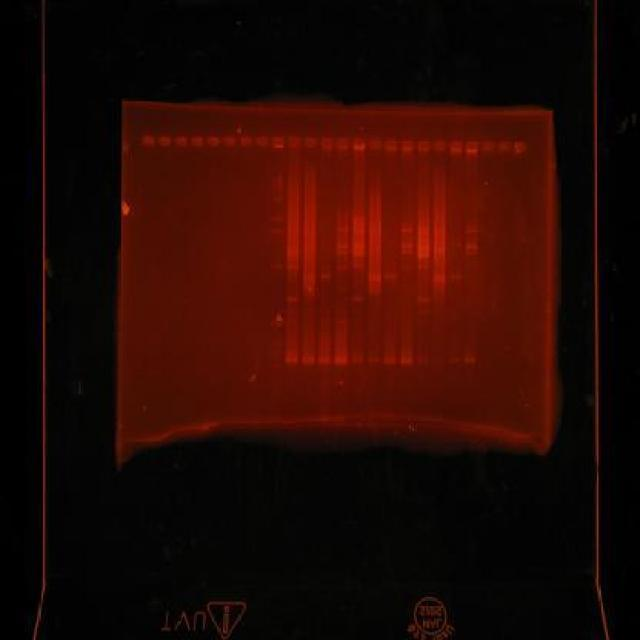B: (399, 356, 413, 366), (432, 274, 446, 284), (333, 358, 349, 366), (300, 356, 316, 364), (284, 355, 300, 363), (400, 241, 414, 250), (367, 273, 381, 282), (302, 273, 316, 282), (463, 355, 477, 363), (416, 250, 430, 258), (417, 236, 431, 244), (416, 222, 430, 230), (416, 215, 430, 223), (400, 262, 414, 270), (318, 356, 332, 364), (383, 356, 397, 364), (350, 356, 364, 364), (465, 243, 478, 251), (448, 356, 461, 364), (352, 215, 366, 222), (434, 245, 446, 253), (368, 356, 380, 364), (351, 244, 366, 250), (416, 297, 430, 303), (417, 244, 431, 250), (417, 230, 431, 236), (400, 227, 414, 233), (432, 226, 446, 232), (334, 320, 348, 326), (318, 273, 332, 279), (318, 338, 332, 344), (383, 273, 397, 279), (286, 296, 300, 302), (286, 263, 300, 269), (286, 250, 300, 256), (368, 244, 382, 250), (302, 250, 316, 256), (286, 228, 300, 234), (465, 228, 478, 234), (465, 250, 478, 256), (448, 274, 461, 280), (449, 241, 462, 247), (416, 358, 429, 364), (336, 226, 349, 232), (336, 250, 349, 256), (336, 264, 349, 270), (351, 296, 364, 302), (352, 251, 365, 257), (352, 228, 365, 234), (465, 261, 478, 267), (352, 308, 365, 314), (434, 231, 446, 237), (334, 310, 348, 315), (401, 249, 414, 254), (336, 246, 349, 251), (418, 310, 428, 316), (418, 264, 428, 270), (401, 222, 414, 226), (352, 264, 365, 268), (336, 242, 349, 245)
L: (139, 132, 530, 160)
M: (266, 179, 286, 376)
P: (270, 361, 282, 372), (270, 196, 284, 204), (270, 215, 284, 222), (269, 321, 282, 328), (270, 228, 282, 235), (270, 341, 282, 348), (270, 351, 282, 358), (270, 264, 282, 270), (271, 186, 284, 191), (272, 190, 283, 195)
Pc: (464, 140, 480, 154), (253, 136, 270, 149), (142, 134, 156, 148), (158, 134, 172, 148), (287, 136, 301, 150), (303, 136, 317, 150), (319, 137, 333, 151), (336, 137, 350, 151), (449, 139, 463, 153), (513, 142, 527, 156), (497, 141, 512, 154), (174, 135, 188, 148), (190, 136, 204, 149), (206, 135, 220, 148), (222, 136, 236, 149), (270, 136, 284, 149), (352, 138, 366, 151), (368, 138, 382, 151), (384, 138, 398, 151), (400, 138, 414, 151), (482, 141, 496, 154), (418, 140, 432, 152), (433, 140, 447, 152), (238, 136, 252, 147)
